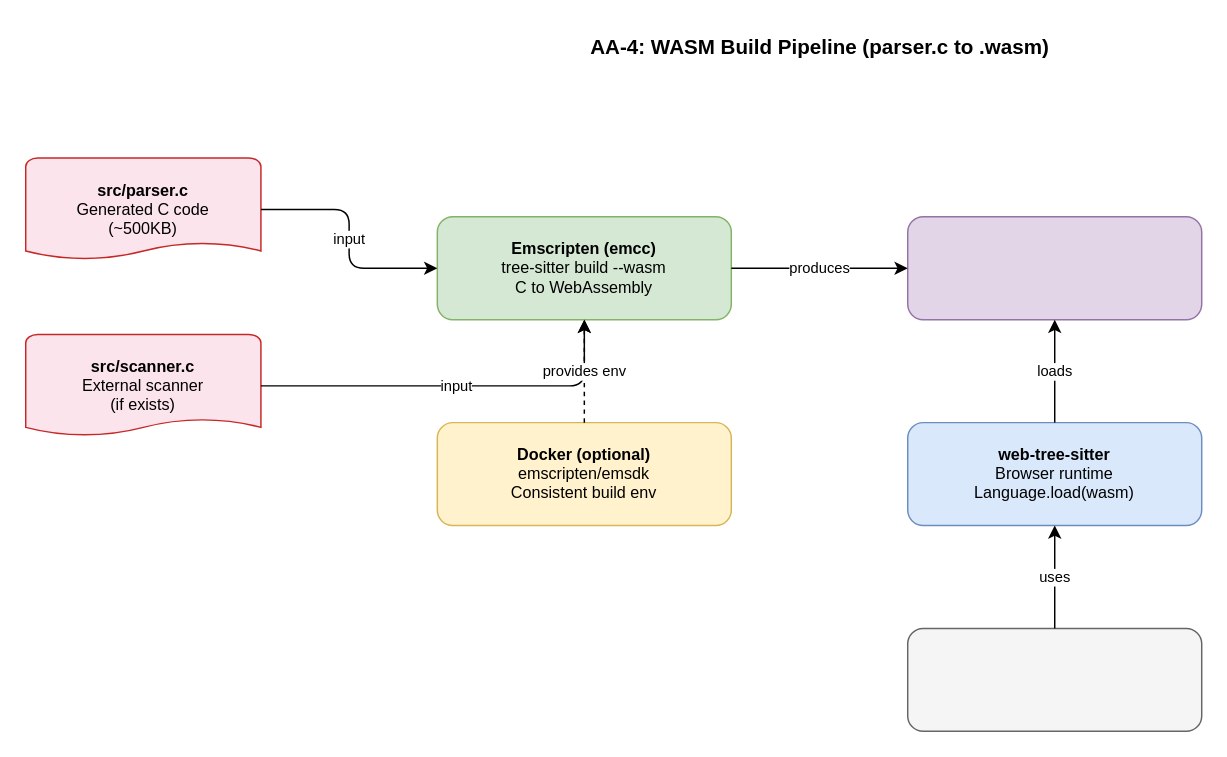
The diagram is 1227 pixels wide and 757 high, and some of its shapes have lost their labels. Here are the shapes that lost their labels. From the top down, the centre of each, then its label:
(1054,267): tree-sitter-apex.wasm WebAssembly binary (~300KB)
(1054,679): Browser / VS Code Web extension Syntax highlighting
